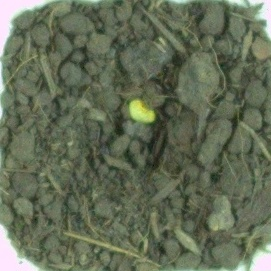pepper seed: (49, 35, 207, 160)
